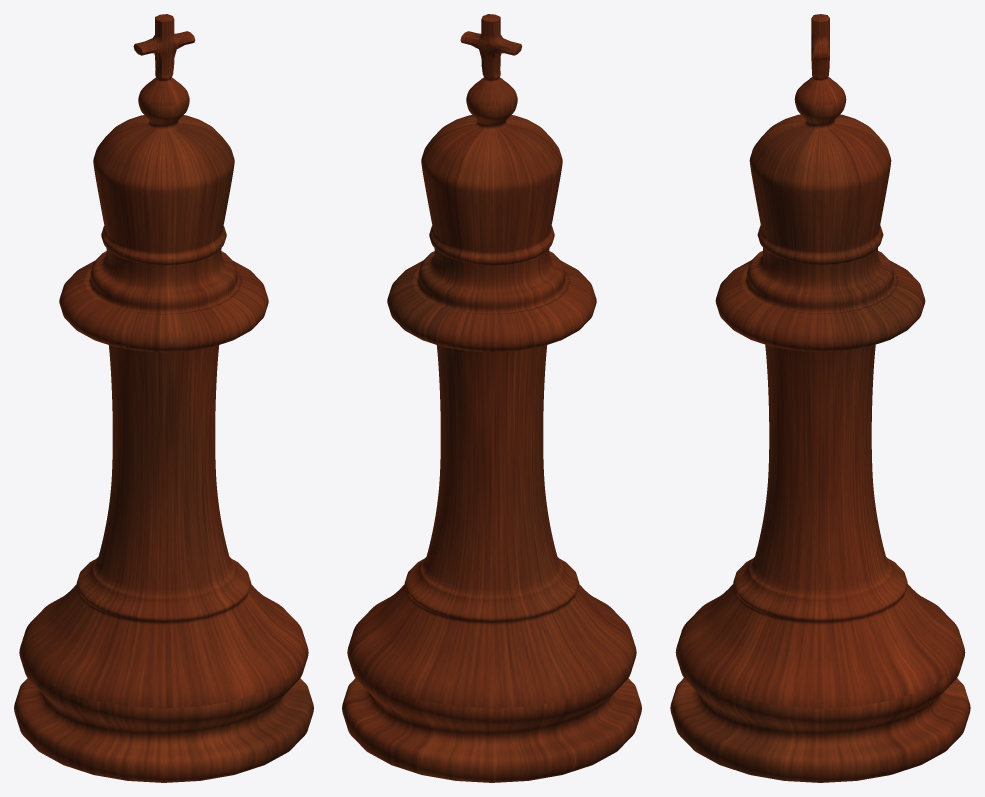
Rendered from king.gltf.
3 renders of one model, left to right at view 1: azimuth 30°, elevation 25°; view 2: azimuth 150°, elevation 25°; view 3: azimuth 270°, elevation 25°, orthographic.
Visible parts, largest first — view 1: mesh01; view 2: mesh01; view 3: mesh01.
Boxes of the visible parts, bbox=[...] form: mesh01: bbox=[14, 14, 313, 782]; mesh01: bbox=[342, 14, 641, 782]; mesh01: bbox=[670, 14, 970, 782].
Bounding box in the file's own units: 14.66 × 38.26 × 14.66.
Materials: 1 (1 with a texture image).
